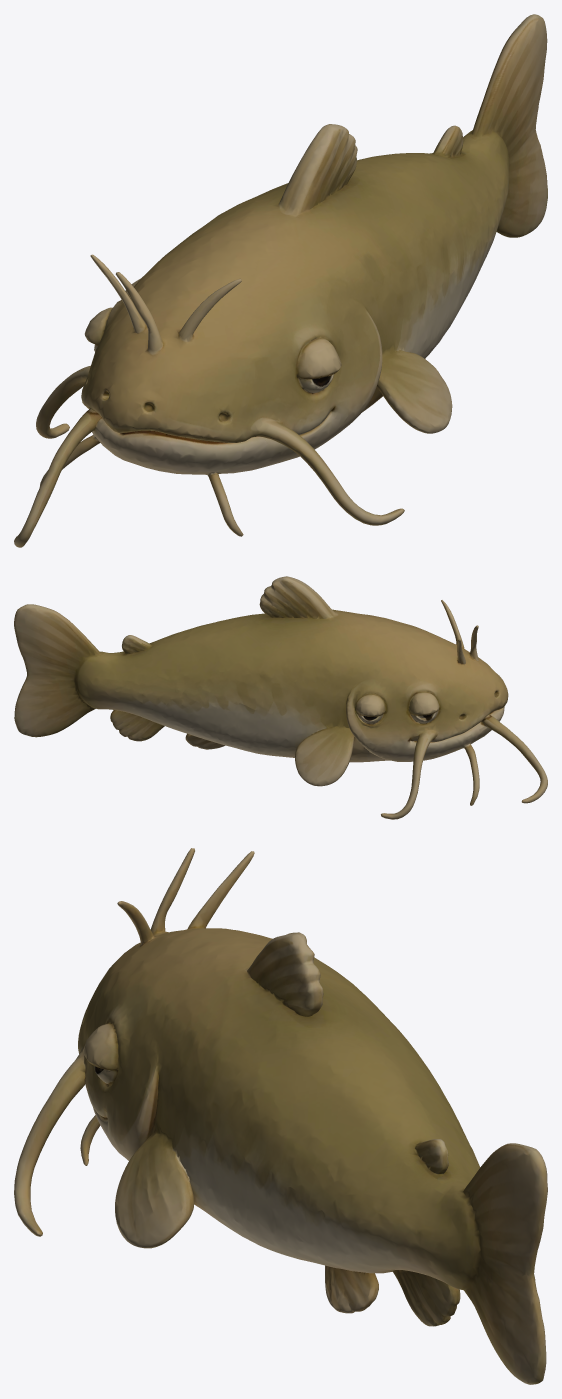
Rendered from nat_fish_trout_v1.glb.
3 views of the same model, one above another, from view 1: azimuth 30°, elevation 25°; view 2: azimuth 150°, elevation 25°; view 3: azimuth 270°, elevation 25° (orthographic). The views are drawn at different scales.
Parts seen in each view (by area): view 1: tripo_node_850099df-7a4f-4d5f-b9a9-ebcef469d285; view 2: tripo_node_850099df-7a4f-4d5f-b9a9-ebcef469d285; view 3: tripo_node_850099df-7a4f-4d5f-b9a9-ebcef469d285.
Boxes of the visible parts, bbox=[...] form: tripo_node_850099df-7a4f-4d5f-b9a9-ebcef469d285: bbox=[14, 14, 547, 547]; tripo_node_850099df-7a4f-4d5f-b9a9-ebcef469d285: bbox=[14, 576, 547, 819]; tripo_node_850099df-7a4f-4d5f-b9a9-ebcef469d285: bbox=[14, 848, 547, 1384].
Bounding box in the file's own units: 0.98 × 0.4142 × 0.5886.
Materials: 1 (1 with a texture image).
